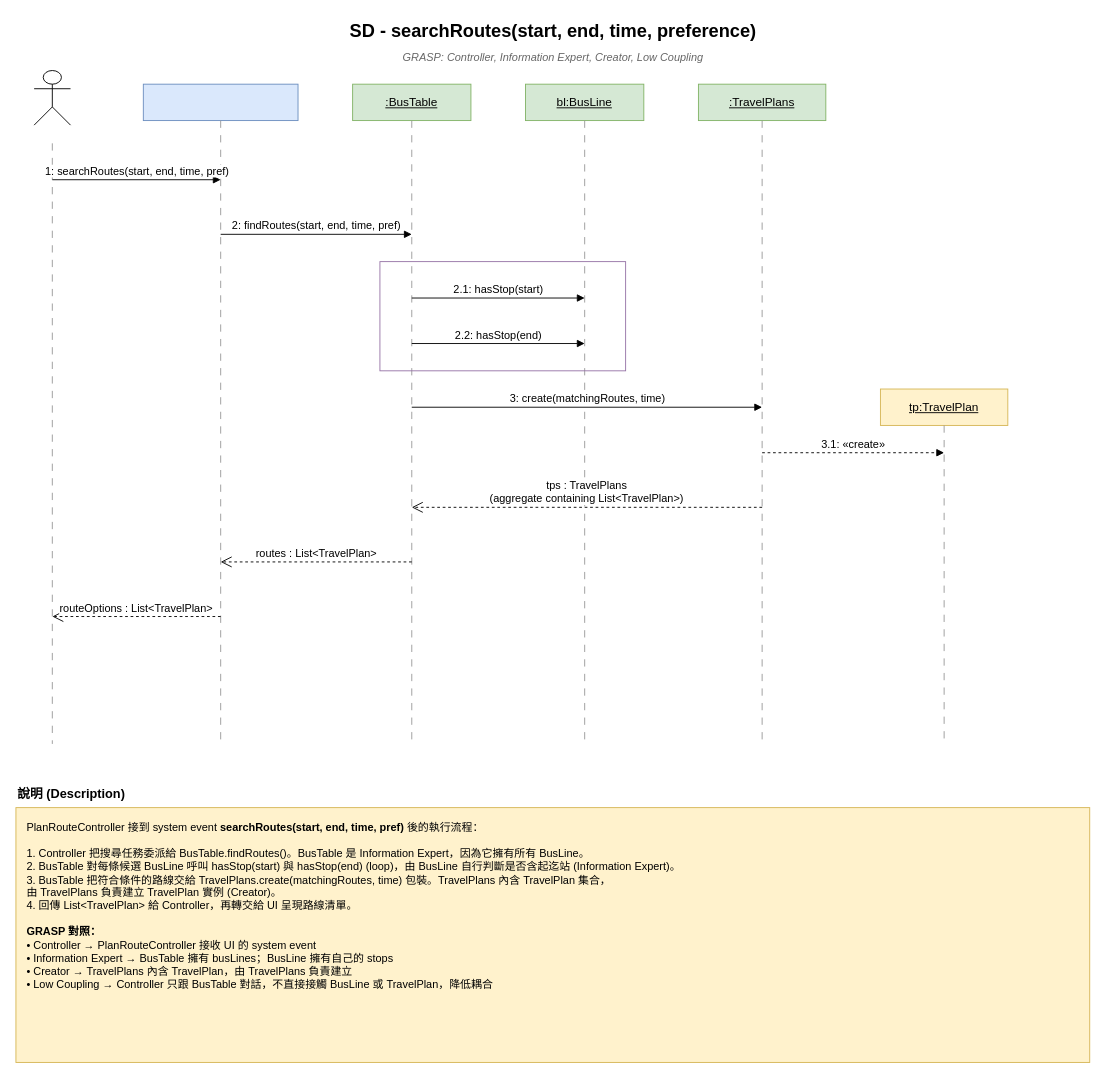
The diagram is 1106 pixels wide and 1078 high, and some of its shapes have lost their labels. Each missing label, with the centre of its shape:
:PlanRouteController: (x=220, y=102)
loop [for each bl : BusLine]: (x=502, y=316)
User: (x=52, y=97)
